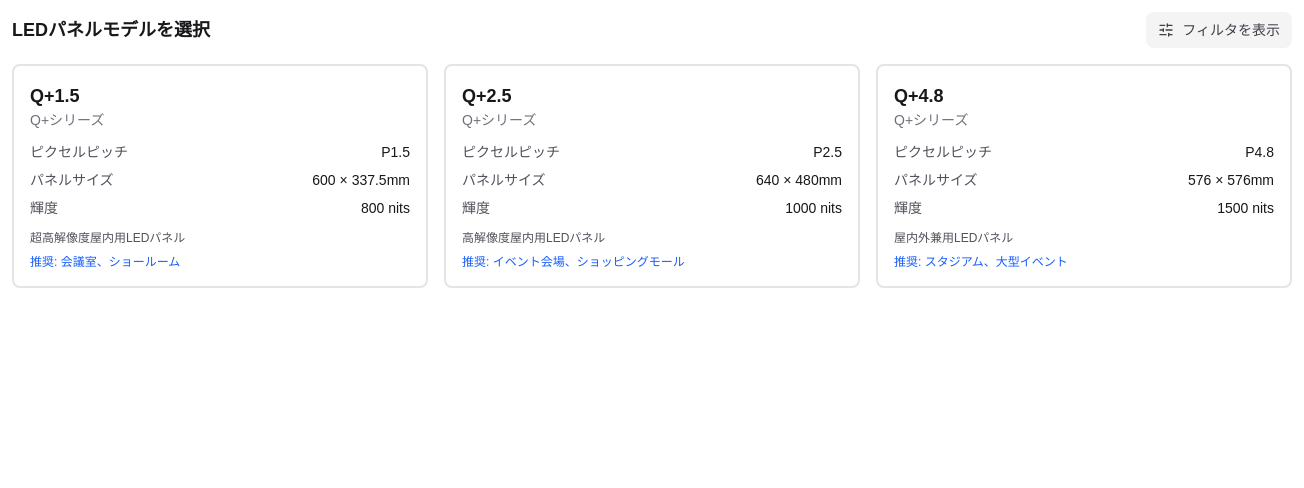
Test: PanelSelector › Search functionality › should filter panels by description
Click the button "フィルタを表示" at point(1219, 30), box [1146,12,1292,48]
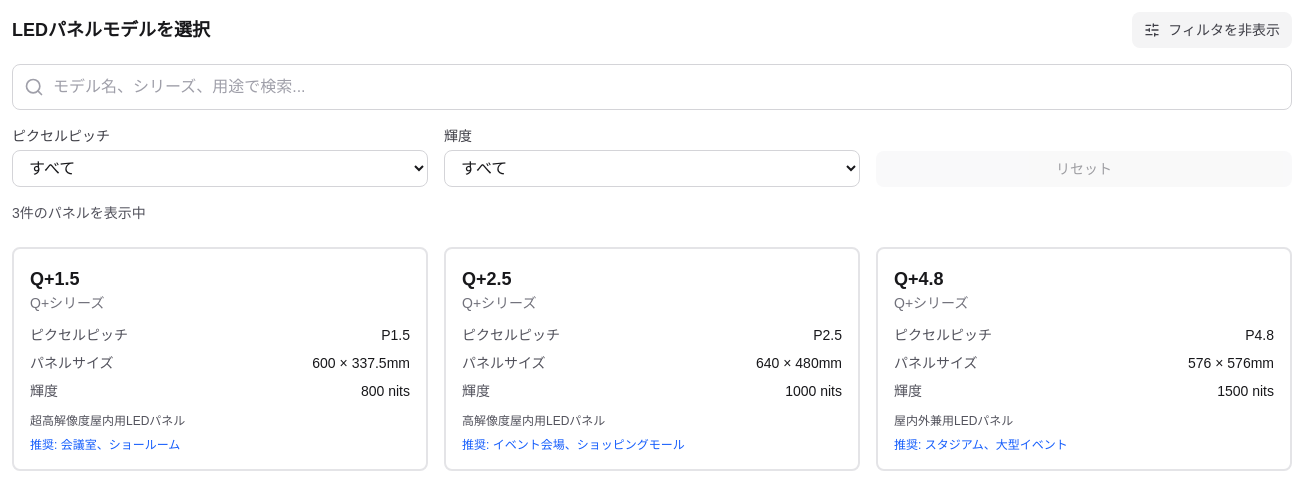
Type "屋内外" into the field with placeholder "モデル名、シリーズ、用途で検索..." at point(652, 87), box [12,64,1292,110]
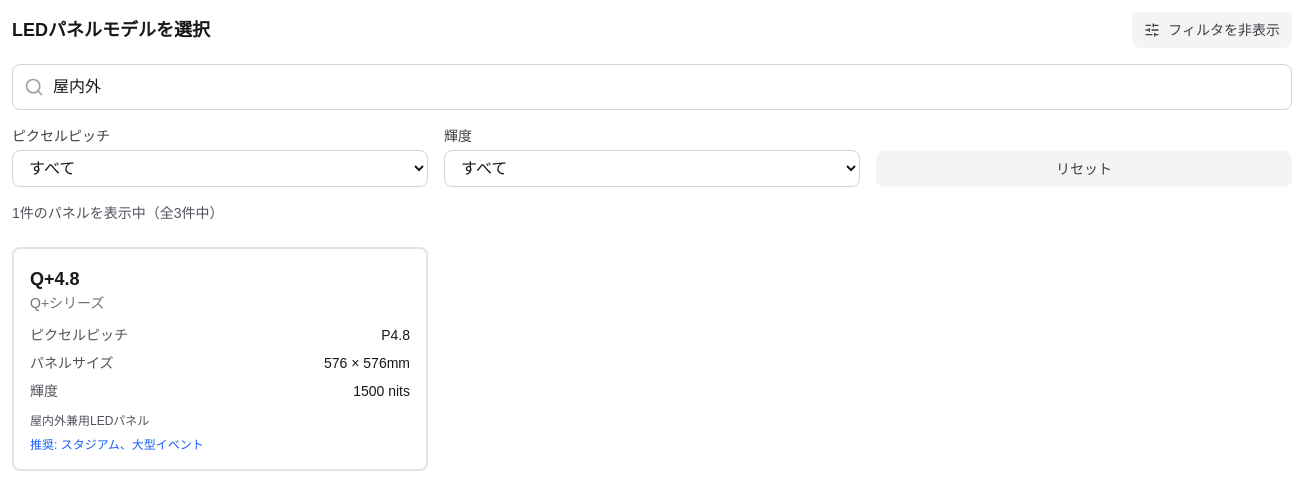
expect the heading "Q+4.8" is shown: met, box [30,269,80,289]
expect the button "Q+1.5" is gone: met
expect the button "Q+2.5" is gone: met
